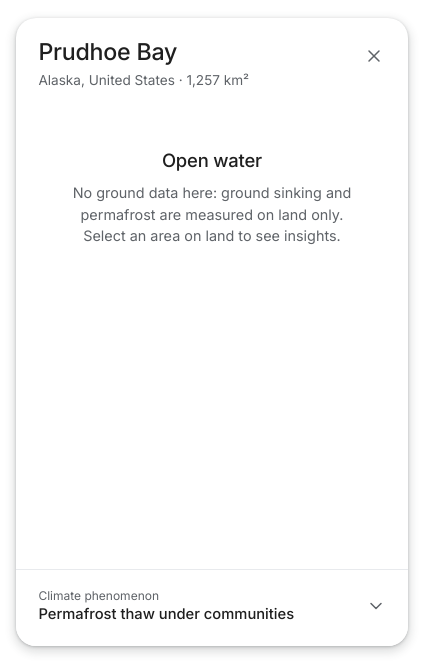
Test: area insights panel › groups phenomena into what we can predict and what we can measure
Click the button "Climate phenomenon Permafrost thaw under communities" at (212, 606), box [28,578,396,634]
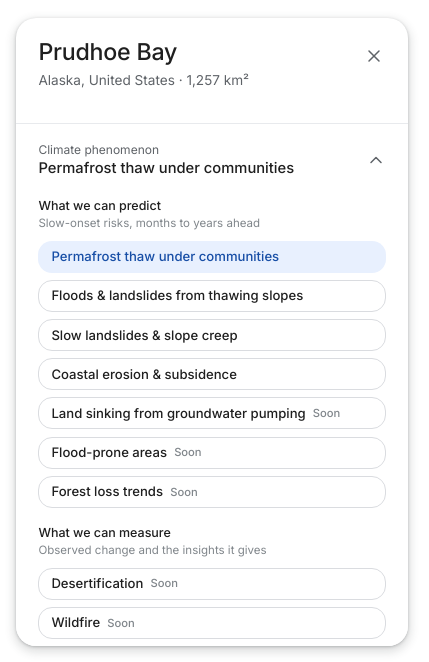
Result: the heading "What we can predict" is shown at [38,198,161,213]
Result: the heading "What we can measure" is shown at [38,525,171,540]
